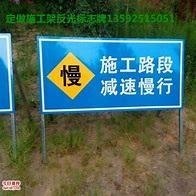sign: (39, 35, 182, 108)
